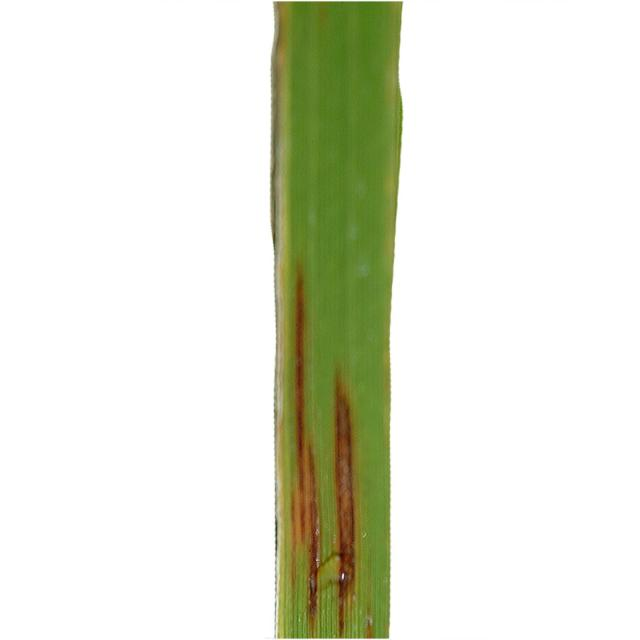Narrow brown: (217, 0, 443, 640)
